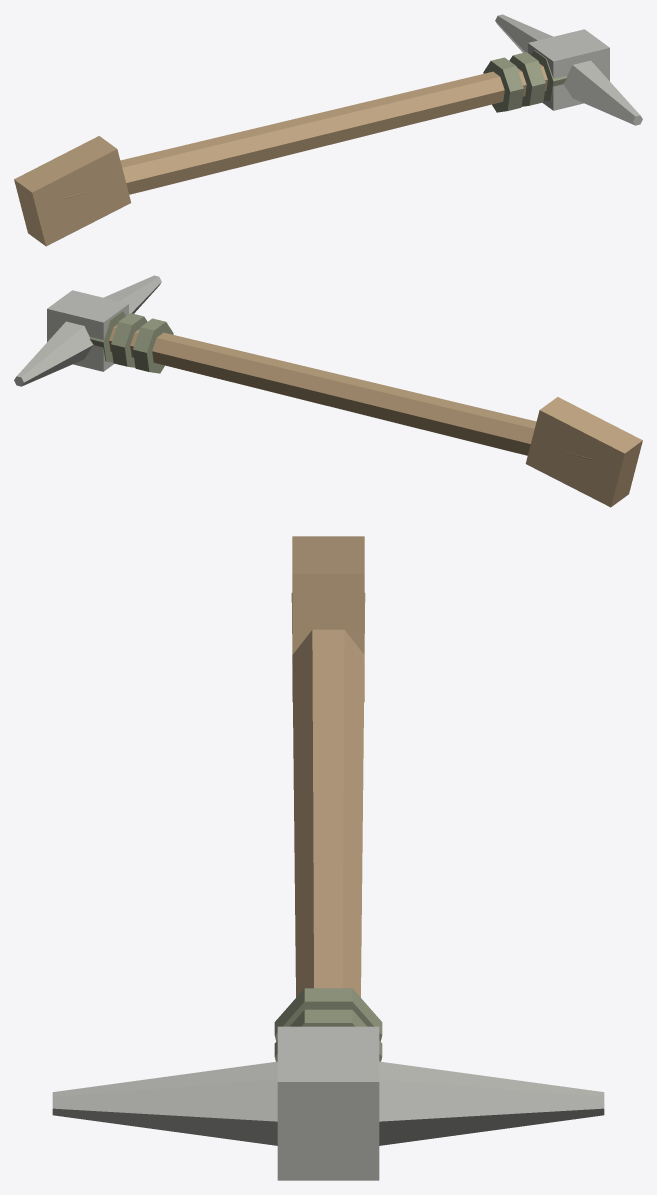
Rendered from wipe-day-survival-island-stone-pickaxe-8629c516__27481.glb.
The picture shows the model from 3 angles, top to bottom: view 1: azimuth 30°, elevation 25°; view 2: azimuth 150°, elevation 25°; view 3: azimuth 270°, elevation 25°; orthographic projection. The views are drawn at different scales.
Visible parts, largest first — view 1: stone-pickaxe; view 2: stone-pickaxe; view 3: stone-pickaxe.
Part boxes in pixels (<box>): stone-pickaxe: <box>14,14,642,246</box>; stone-pickaxe: <box>14,275,642,507</box>; stone-pickaxe: <box>52,536,604,1180</box>.
Size of the model in its own units: 0.914 by 0.1219 by 0.38.
